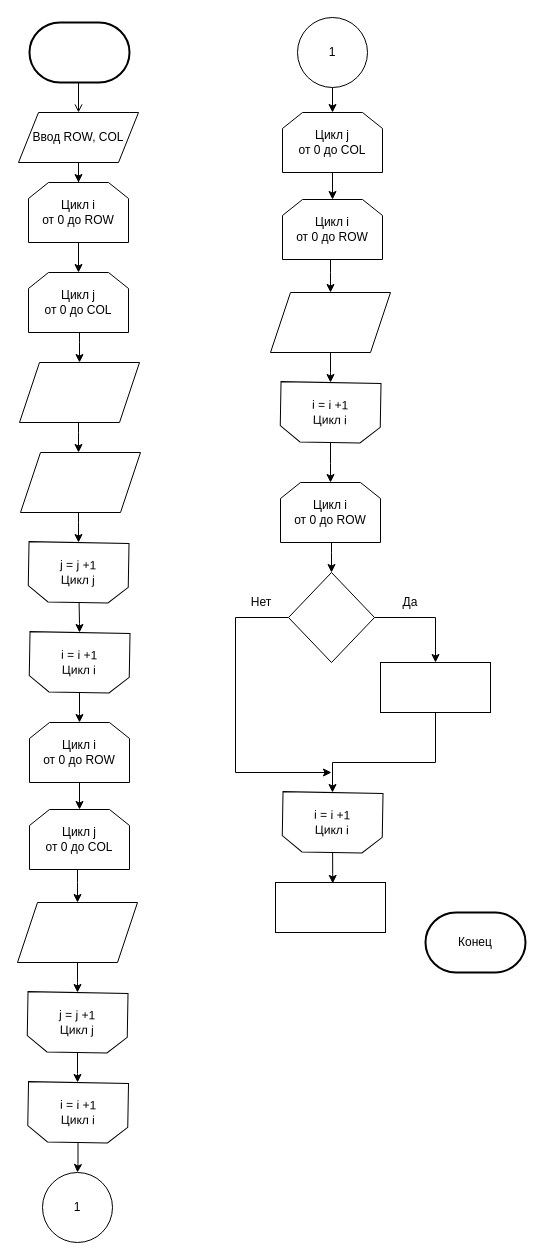
This 544x1260 diagram has some shape labels left out. The centre of each missing label's shape, as x and y in pixels:
"arr[i][j]>s - arr[i][j]" belongs at (x=331, y=617).
"p = p + 1" belongs at (x=435, y=687).
"s = 0" belongs at (x=330, y=907).
"s = s + arr[i][j]" belongs at (x=330, y=322).
"Ввод: arr[i][j]" belongs at (x=80, y=482).
"Вход" belongs at (x=79, y=52).
"Вывод: arr[i][j]" belongs at (x=77, y=932).
"Вывод: i+1, j+1" belongs at (x=79, y=392).
